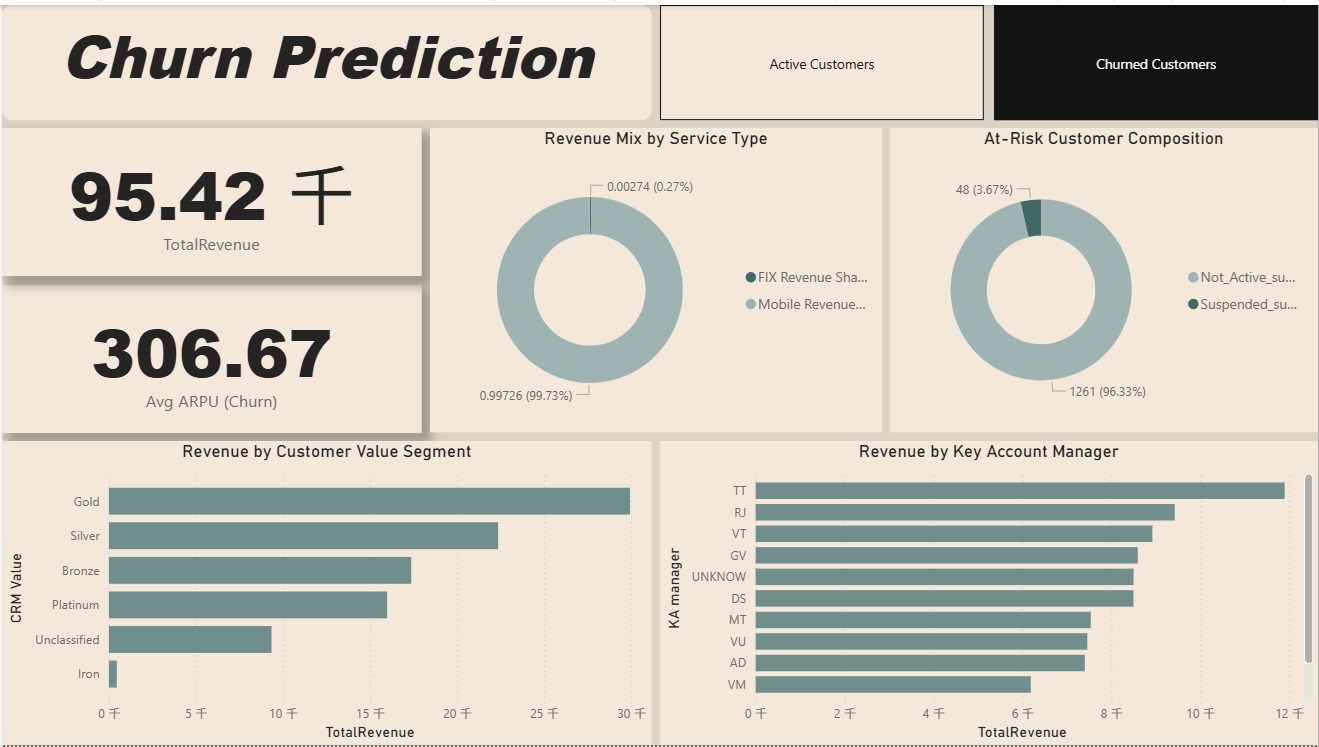

What the dashboard file says about the page in this screenshot:
{"tool":"powerbi","page":{"name":"Churned Customers","canvas":[1280,720],"ordinal":1},"visuals":[{"type":"pageNavigator","box":[640,0,640,112],"z":0},{"type":"card","fields":{"Values":["prepare_drop2.Avg ARPU (Active)"]},"box":[0,272,408,144],"z":1000},{"type":"actionButton","box":[0,0,100,40],"z":2000},{"type":"card","fields":{"Values":["Sum(prepare_drop2.TotalRevenue)"]},"box":[0,120,408,144],"z":3000},{"type":"barChart","title":"CRM Value","fields":{"Category":["prepare_drop2.CRM_PID_Value_Segment"],"Y":["Sum(prepare_drop2.TotalRevenue)"]},"box":[0,424,632,296],"z":4000},{"type":"clusteredBarChart","title":"Business Perfomance","fields":{"Y":["Sum(prepare_drop2.TotalRevenue)"],"Category":["prepare_drop2.KA_name"]},"box":[640,424,640,296],"z":5000},{"type":"textbox","box":[0,0,632,112],"z":6000},{"type":"donutChart","title":"At-Risk Customer Composition","fields":{"Y":["Sum(prepare_drop2.Not_Active_subscribers)","Sum(prepare_drop2.Suspended_subscribers)"]},"box":[864,120,416,296],"z":7000},{"type":"donutChart","title":"整體營收結構","fields":{"Y":["prepare_drop2.FIX Revenue Share","prepare_drop2.Mobile Revenue Share"]},"box":[416,120,440,296],"z":8000}]}

Visuals, with their boxes in screenshot pixels (x1, y1, x2, y2), scaled from the page's 1280x720 canvas onto the 1319x747 screenshot:
pageNavigator: bbox(660, 0, 1318, 116)
card - prepare_drop2.Avg ARPU (Active): bbox(0, 282, 420, 432)
actionButton: bbox(0, 0, 103, 42)
card - Sum(prepare_drop2.TotalRevenue): bbox(0, 125, 420, 274)
"CRM Value" barChart: bbox(0, 440, 651, 746)
"Business Perfomance" clusteredBarChart: bbox(660, 440, 1318, 746)
textbox: bbox(0, 0, 651, 116)
"At-Risk Customer Composition" donutChart: bbox(890, 125, 1318, 432)
"整體營收結構" donutChart: bbox(429, 125, 882, 432)
